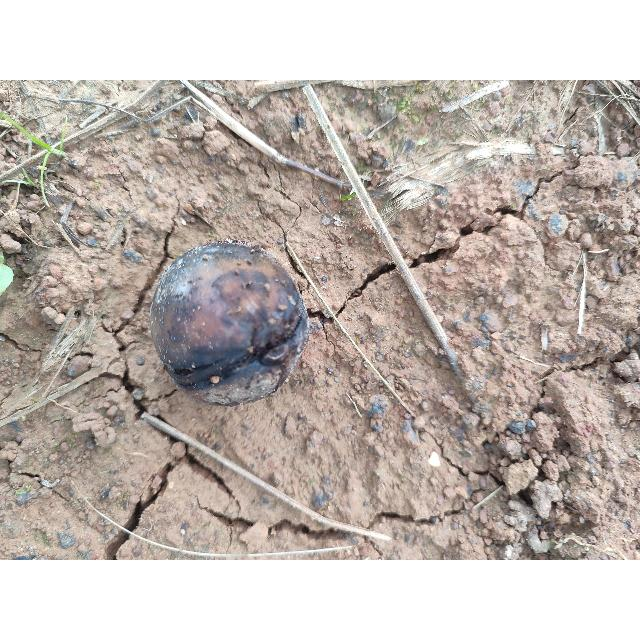damaged: (150, 240, 309, 406)
